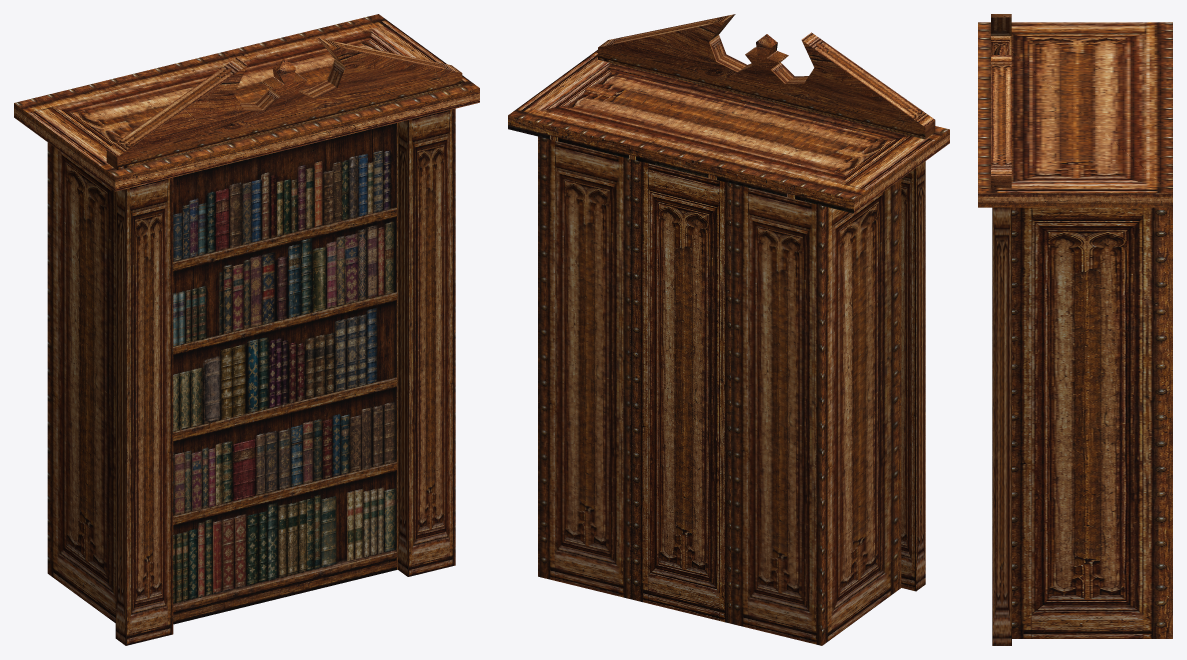
File: mm9_deco_bookcase01ew2.glb
The picture shows the model from 3 angles, left to right: view 1: azimuth 30°, elevation 25°; view 2: azimuth 150°, elevation 25°; view 3: azimuth 270°, elevation 25°; orthographic projection. The views are drawn at different scales.
Visible parts, largest first — view 1: Bookcase01ew2; view 2: Bookcase01ew2; view 3: Bookcase01ew2.
Boxes of the visible parts, <box> form: Bookcase01ew2: <box>14,14,479,645</box>; Bookcase01ew2: <box>508,14,949,645</box>; Bookcase01ew2: <box>978,14,1172,645</box>.
Bounding box in the file's own units: 2.06 × 2.98 × 0.9912.
2 materials, 2 textured.
